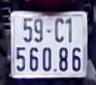0: (41, 45, 54, 72)
1: (65, 16, 74, 44)
5: (22, 16, 33, 42), (15, 45, 26, 71)
6: (70, 46, 84, 73), (28, 46, 38, 72)
8: (58, 46, 69, 75)
9: (32, 16, 44, 44)
C: (52, 17, 64, 45)
